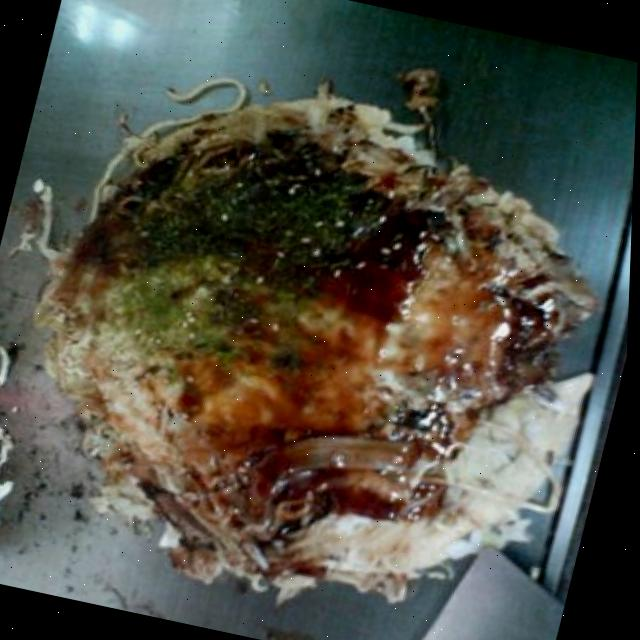蛋糕甜品: (0, 62, 612, 633)
